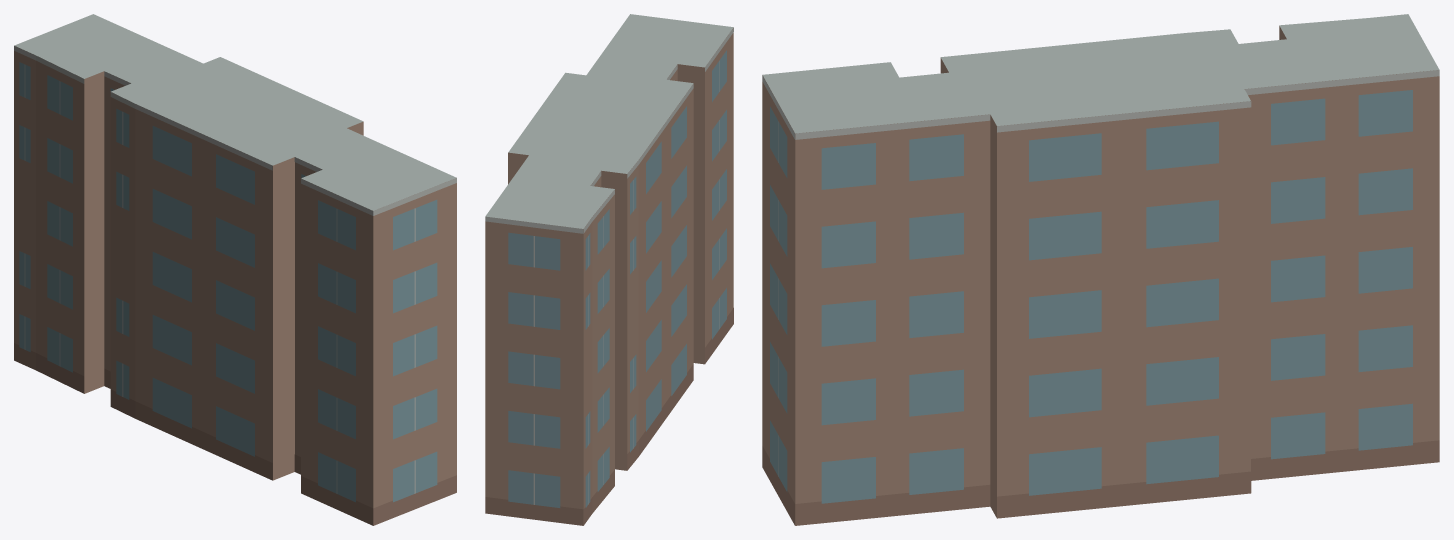
File: survey-upis-32924825.glb
3 renders of one model, left to right at view 1: azimuth 30°, elevation 25°; view 2: azimuth 150°, elevation 25°; view 3: azimuth 270°, elevation 25°, orthographic. The views are drawn at different scales.
Parts seen in each view (by area): view 1: survey-upis-32924825.tmp; view 2: survey-upis-32924825.tmp; view 3: survey-upis-32924825.tmp.
Boxes of the visible parts, x1,y1,x2,y2 form: survey-upis-32924825.tmp: (14,14,456,525); survey-upis-32924825.tmp: (485,14,733,525); survey-upis-32924825.tmp: (762,14,1439,525).
Bounding box in the file's own units: 9.78 × 14.95 × 23.4.
